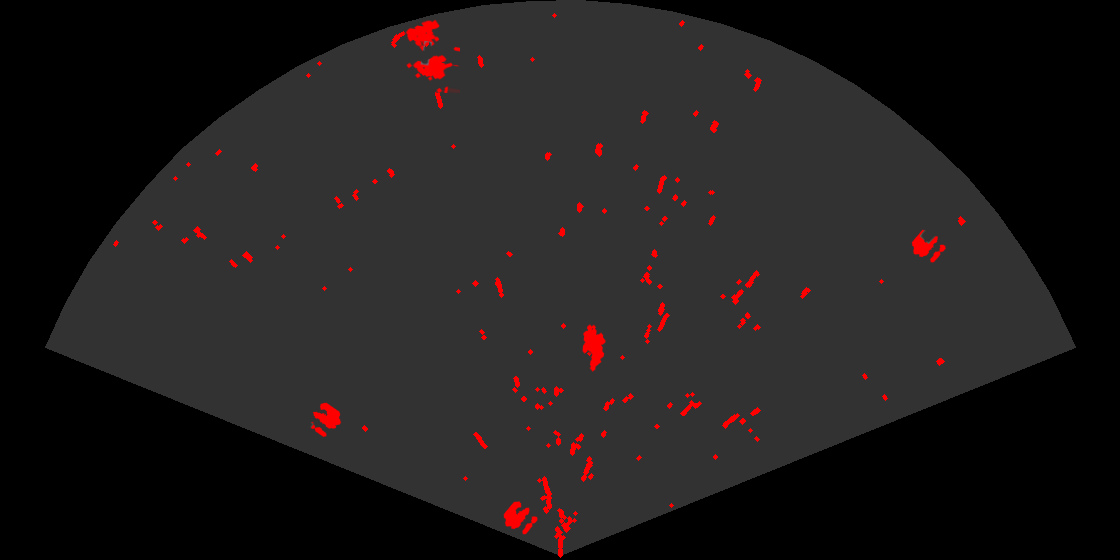AUV: (581, 323, 607, 373)
ball: (502, 500, 539, 536), (910, 228, 947, 264), (310, 401, 343, 439)
cage: (404, 18, 460, 93)
